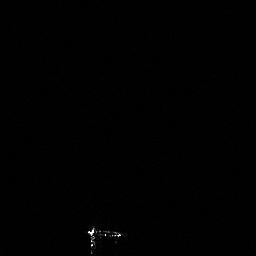ship: (83, 223, 127, 256)
